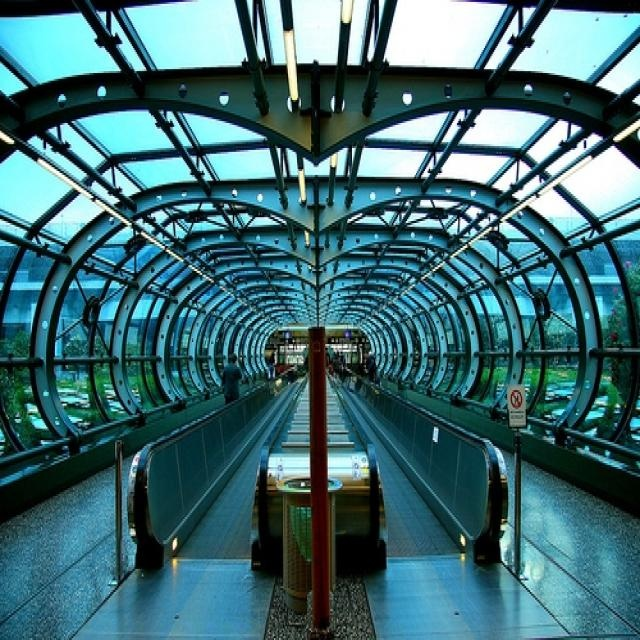NO-Hardhat: (228, 354, 237, 364), (368, 352, 372, 357), (335, 354, 338, 358), (271, 361, 273, 364)
NO-Safety Vest: (223, 364, 238, 396), (366, 356, 374, 369), (334, 359, 341, 372), (269, 364, 273, 372)
Person: (222, 354, 242, 404), (366, 351, 376, 381), (333, 353, 341, 377), (269, 361, 273, 378)
